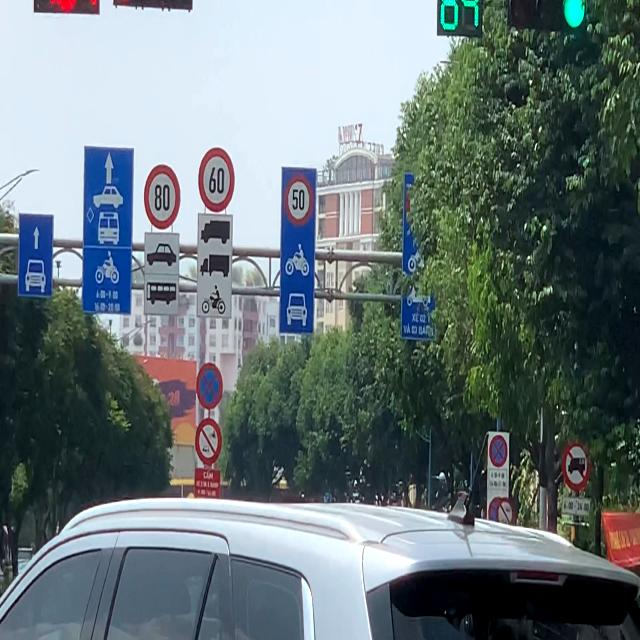P.106b: (562, 440, 590, 491)
P.127: (198, 146, 235, 213), (144, 164, 181, 230), (284, 173, 314, 226)
P.130: (196, 362, 223, 410), (489, 435, 508, 467)
